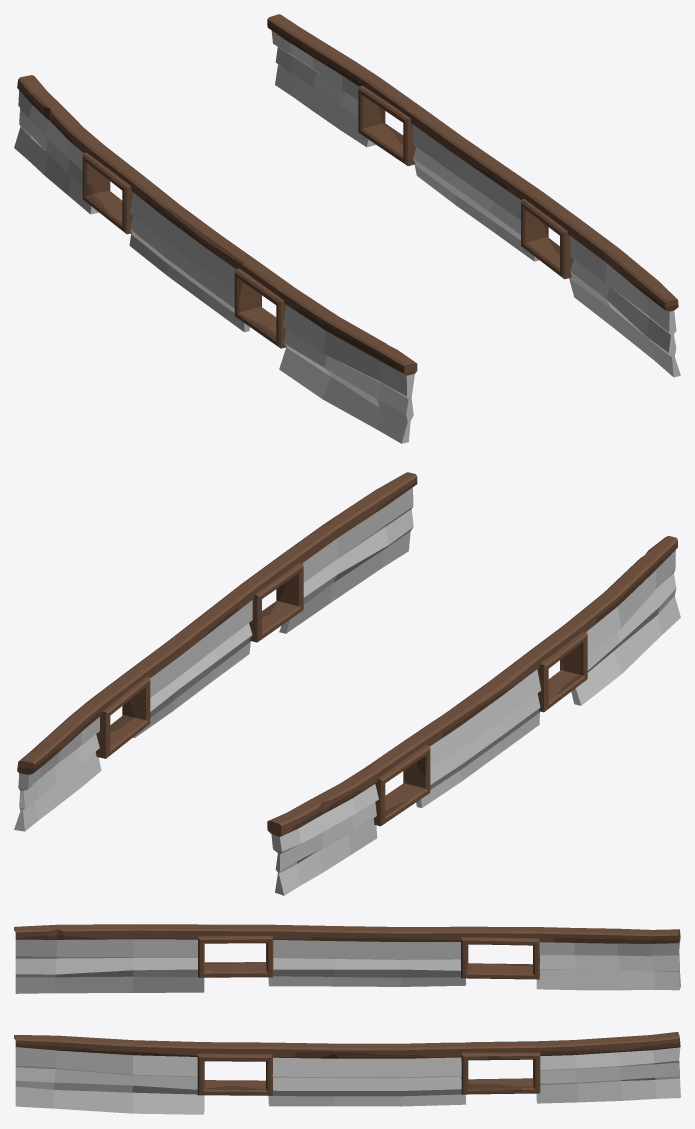
Rendered from SM_Veh_Ship_M_Middle_01.fbx.
3 views of the same model, one above another, from view 1: azimuth 30°, elevation 25°; view 2: azimuth 150°, elevation 25°; view 3: azimuth 270°, elevation 25° (orthographic). The views are drawn at different scales.
Visible parts, largest first — view 1: SM_Veh_Ship_M_Middle_01; view 2: SM_Veh_Ship_M_Middle_01; view 3: SM_Veh_Ship_M_Middle_01.
Part boxes in pixels (x1,y1,x2,y2): SM_Veh_Ship_M_Middle_01: (14, 14, 680, 443); SM_Veh_Ship_M_Middle_01: (14, 472, 680, 895); SM_Veh_Ship_M_Middle_01: (14, 924, 680, 1114).
Bounding box in the file's own units: 727 × 183 × 1585.
